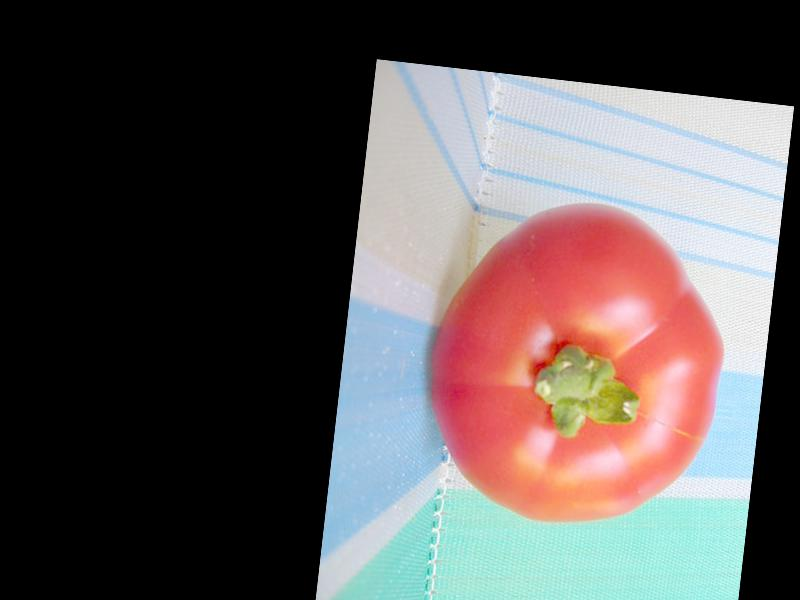Tomato: (413, 189, 738, 539)
